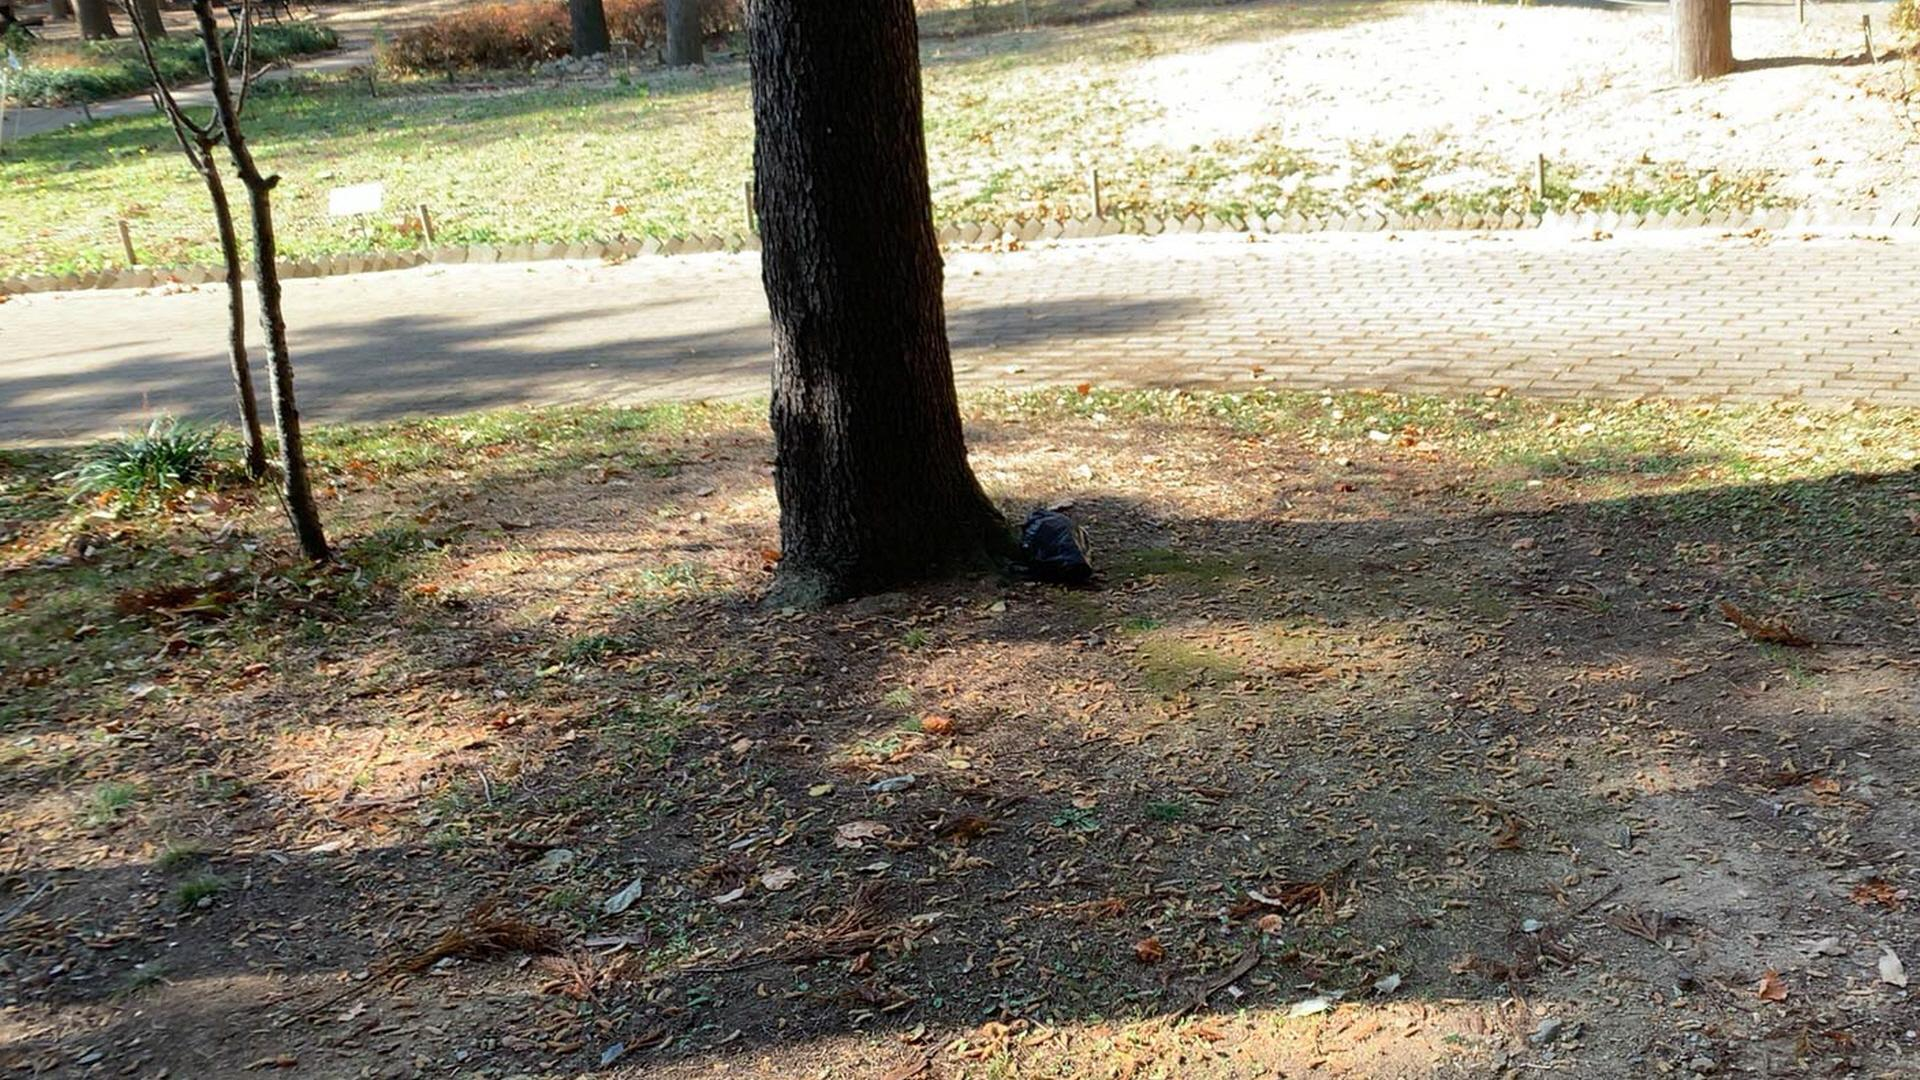black_bag: (1014, 495, 1101, 589)
